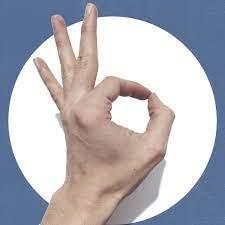Okay: (22, 1, 178, 203)
